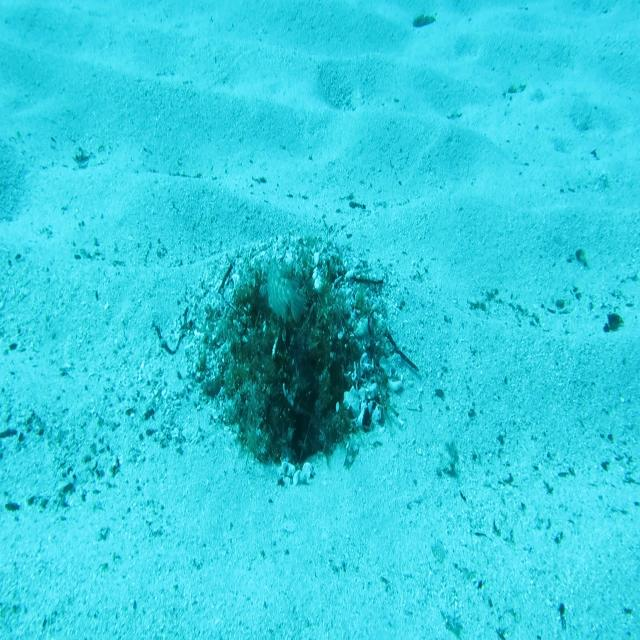NIP_CORE: (262, 250, 306, 327)
core_nest: (260, 290, 318, 331)
nest: (184, 202, 422, 486)
vegetation: (412, 13, 436, 32)
